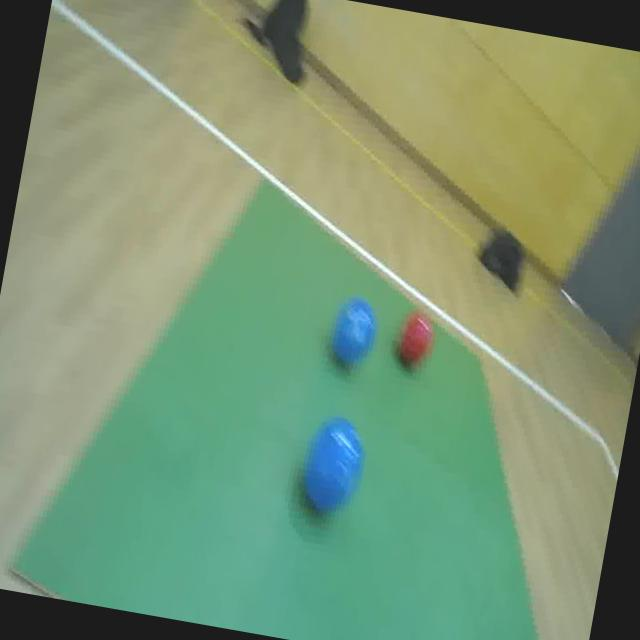blue_ball: (292, 408, 371, 526), (322, 294, 380, 374)
red_ball: (391, 304, 442, 376)
